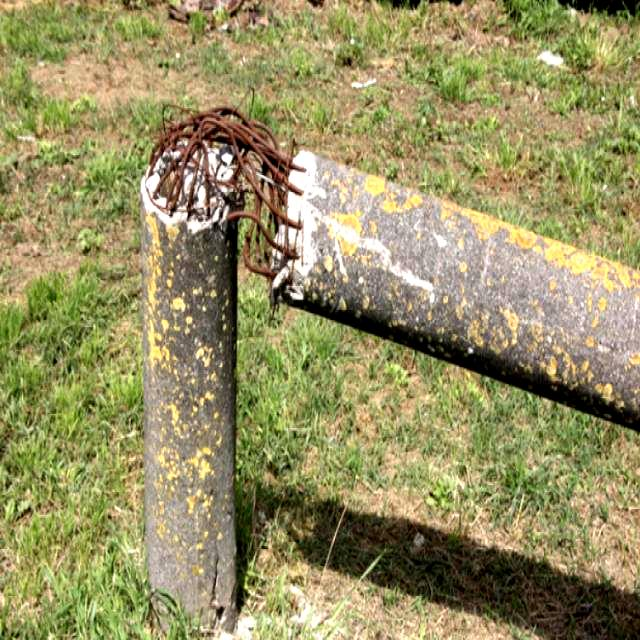Broken Pole: (135, 72, 640, 640)
